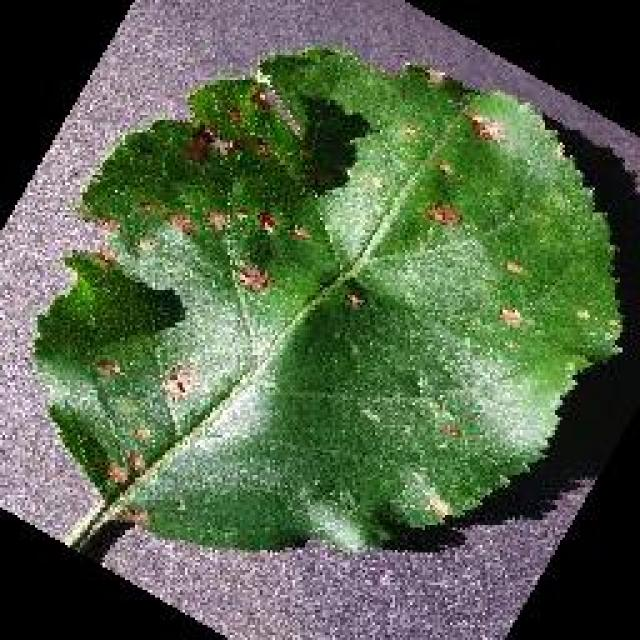Black_rot: (27, 43, 625, 555)
